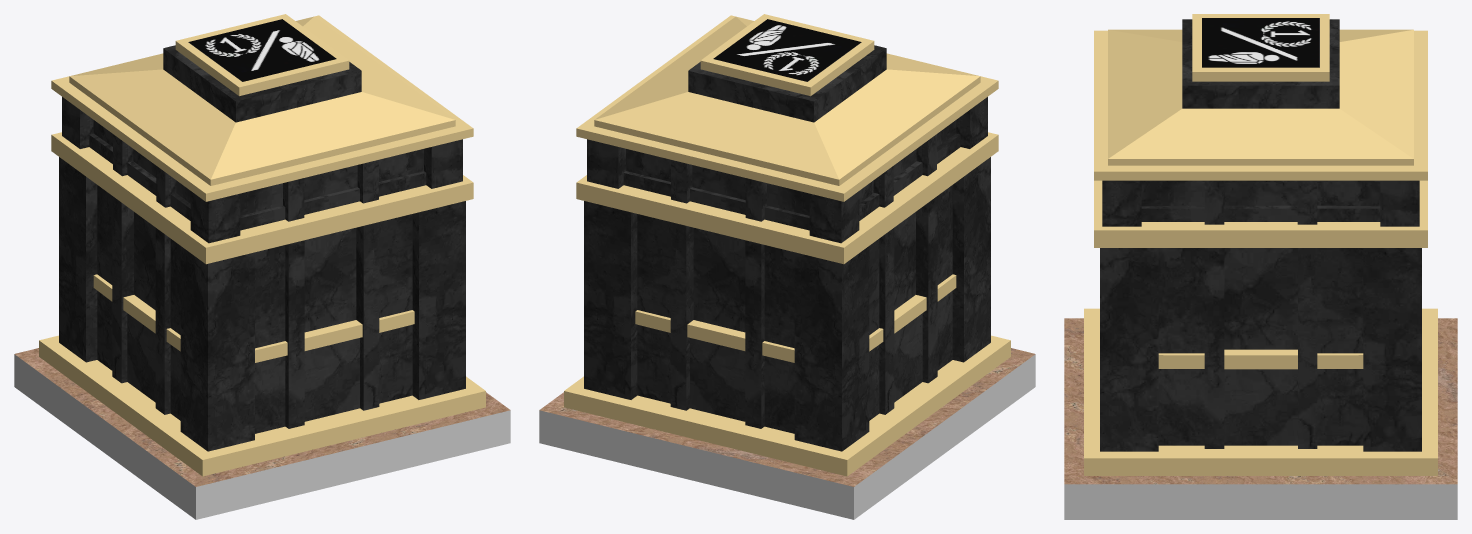
Rendered from buildingTorreObservacion.glb.
The picture shows the model from 3 angles, left to right: view 1: azimuth 30°, elevation 25°; view 2: azimuth 150°, elevation 25°; view 3: azimuth 270°, elevation 25°; orthographic projection. The views are drawn at different scales.
Parts seen in each view (by area): view 1: TorreObservacion; view 2: TorreObservacion; view 3: TorreObservacion.
Part boxes in pixels (<box>): TorreObservacion: <box>14,14,510,519</box>; TorreObservacion: <box>539,14,1035,519</box>; TorreObservacion: <box>1064,14,1457,519</box>.
Size of the model in its own units: 2 by 2.21 by 2.
Materials: 5 (3 with a texture image).
